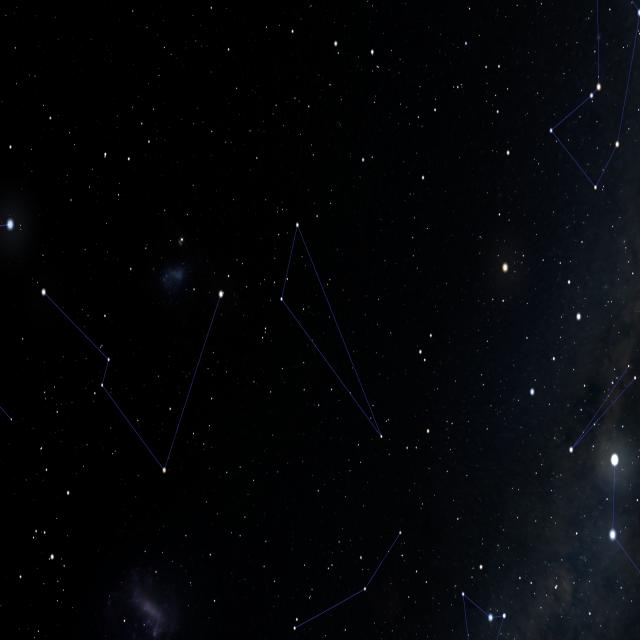Octans: (269, 206, 392, 454)
